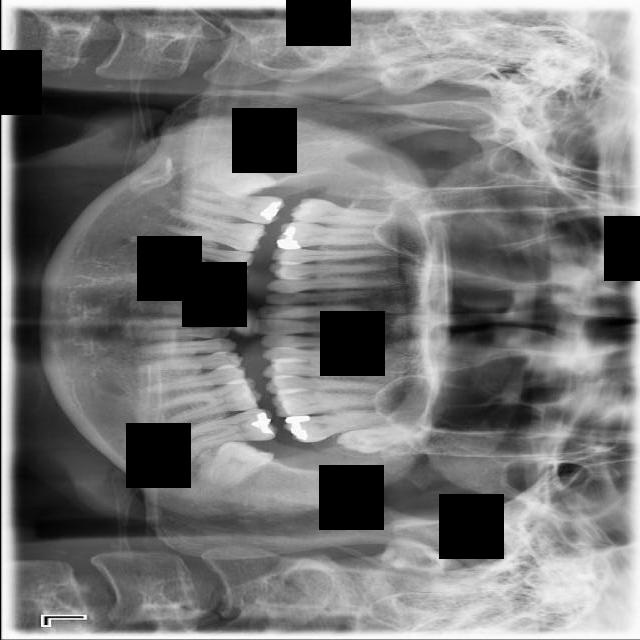52: (228, 405, 279, 447), (237, 191, 286, 228), (280, 415, 331, 444), (272, 222, 325, 249)
73: (68, 609, 80, 618)
BioHorizons Implant: (280, 409, 392, 445)
BioLife Implant: (333, 421, 419, 457)
Biomet 3i Implant: (202, 433, 274, 506)
Blue Sky Bio Implant: (171, 404, 280, 455)
Caries: (289, 198, 392, 225)
Implant: (181, 189, 285, 226)
Keystone Dental Implant: (201, 151, 278, 213)
